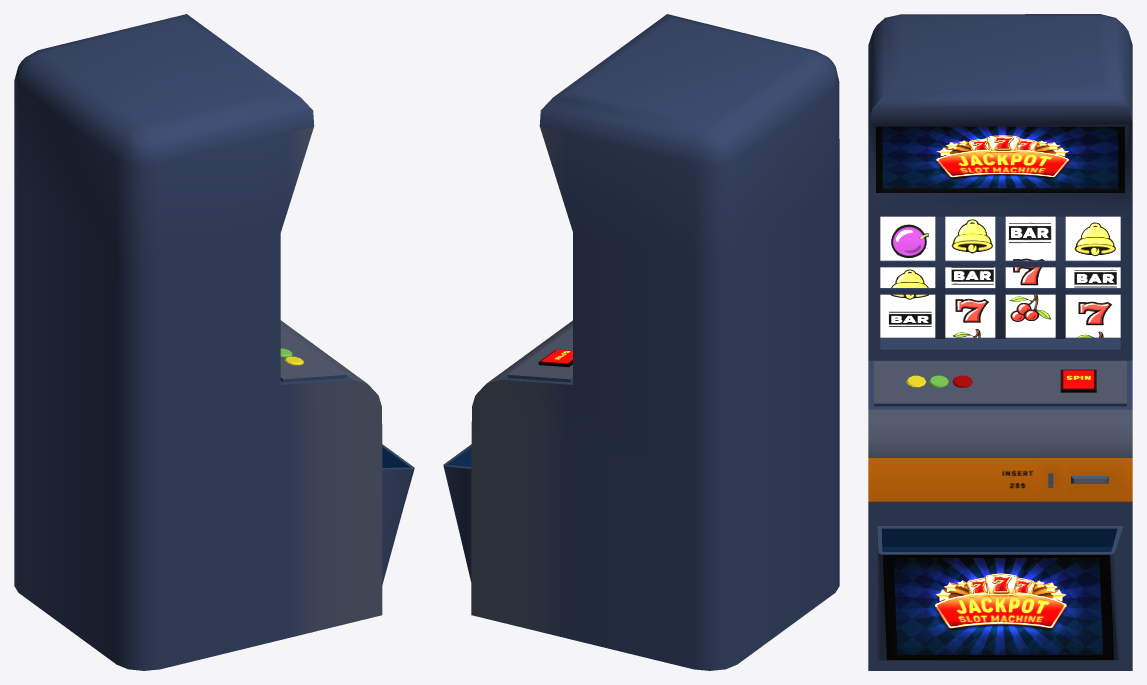
Rendered from low_poly_slot_machine.glb.
3 views of the same model, side by side, from view 1: azimuth 30°, elevation 25°; view 2: azimuth 150°, elevation 25°; view 3: azimuth 270°, elevation 25° (orthographic).
Parts seen in each view (by area): view 1: Jackpot_0; view 2: Jackpot_0; view 3: Jackpot_0.
Boxes of the visible parts, x1,y1,x2,y2 form: Jackpot_0: (14, 14, 414, 670); Jackpot_0: (443, 14, 839, 670); Jackpot_0: (868, 14, 1132, 670).
Size of the model in its own units: 1.13 by 1.99 by 0.8766.
1 material, 1 textured.
